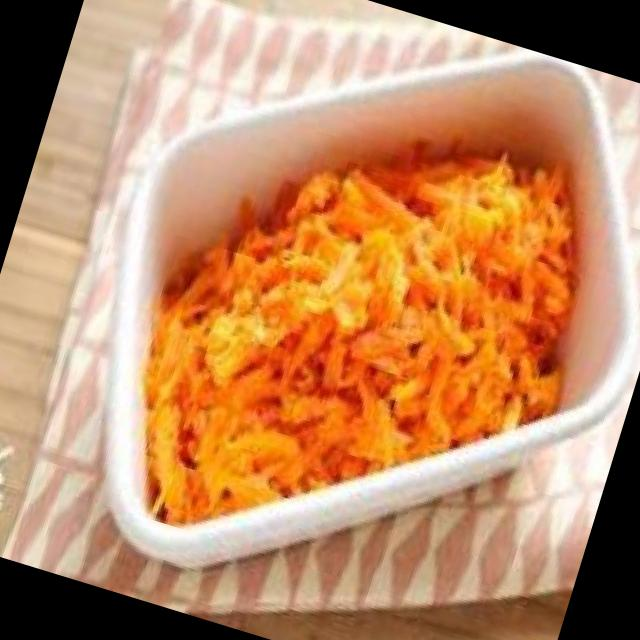carrot_eggs: (96, 64, 606, 604)
